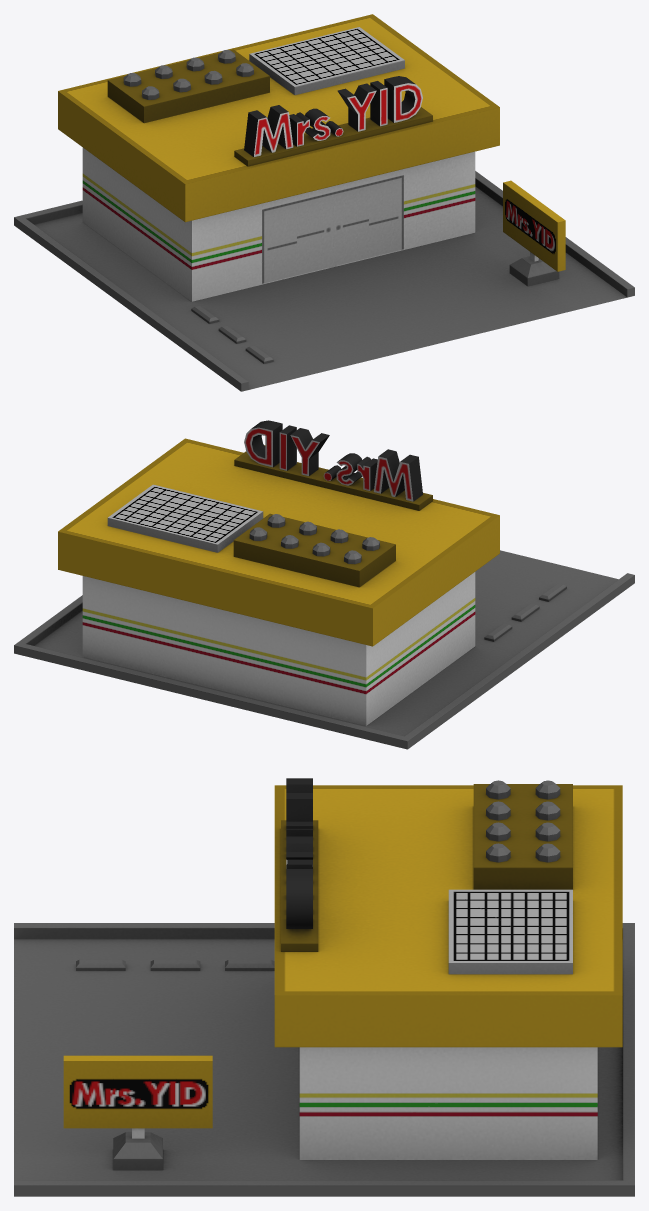
File: Mrs.YID.fbx
3 views of the same model, one above another, from view 1: azimuth 30°, elevation 25°; view 2: azimuth 150°, elevation 25°; view 3: azimuth 270°, elevation 25° (orthographic). The views are drawn at different scales.
Parts seen in each view (by area): view 1: polySurface21; view 2: polySurface21; view 3: polySurface21.
Boxes of the visible parts, x1,y1,x2,y2 form: polySurface21: (14, 14, 634, 391); polySurface21: (14, 420, 634, 749); polySurface21: (14, 778, 634, 1196).
Size of the model in its own units: 25 by 10.37 by 25.
